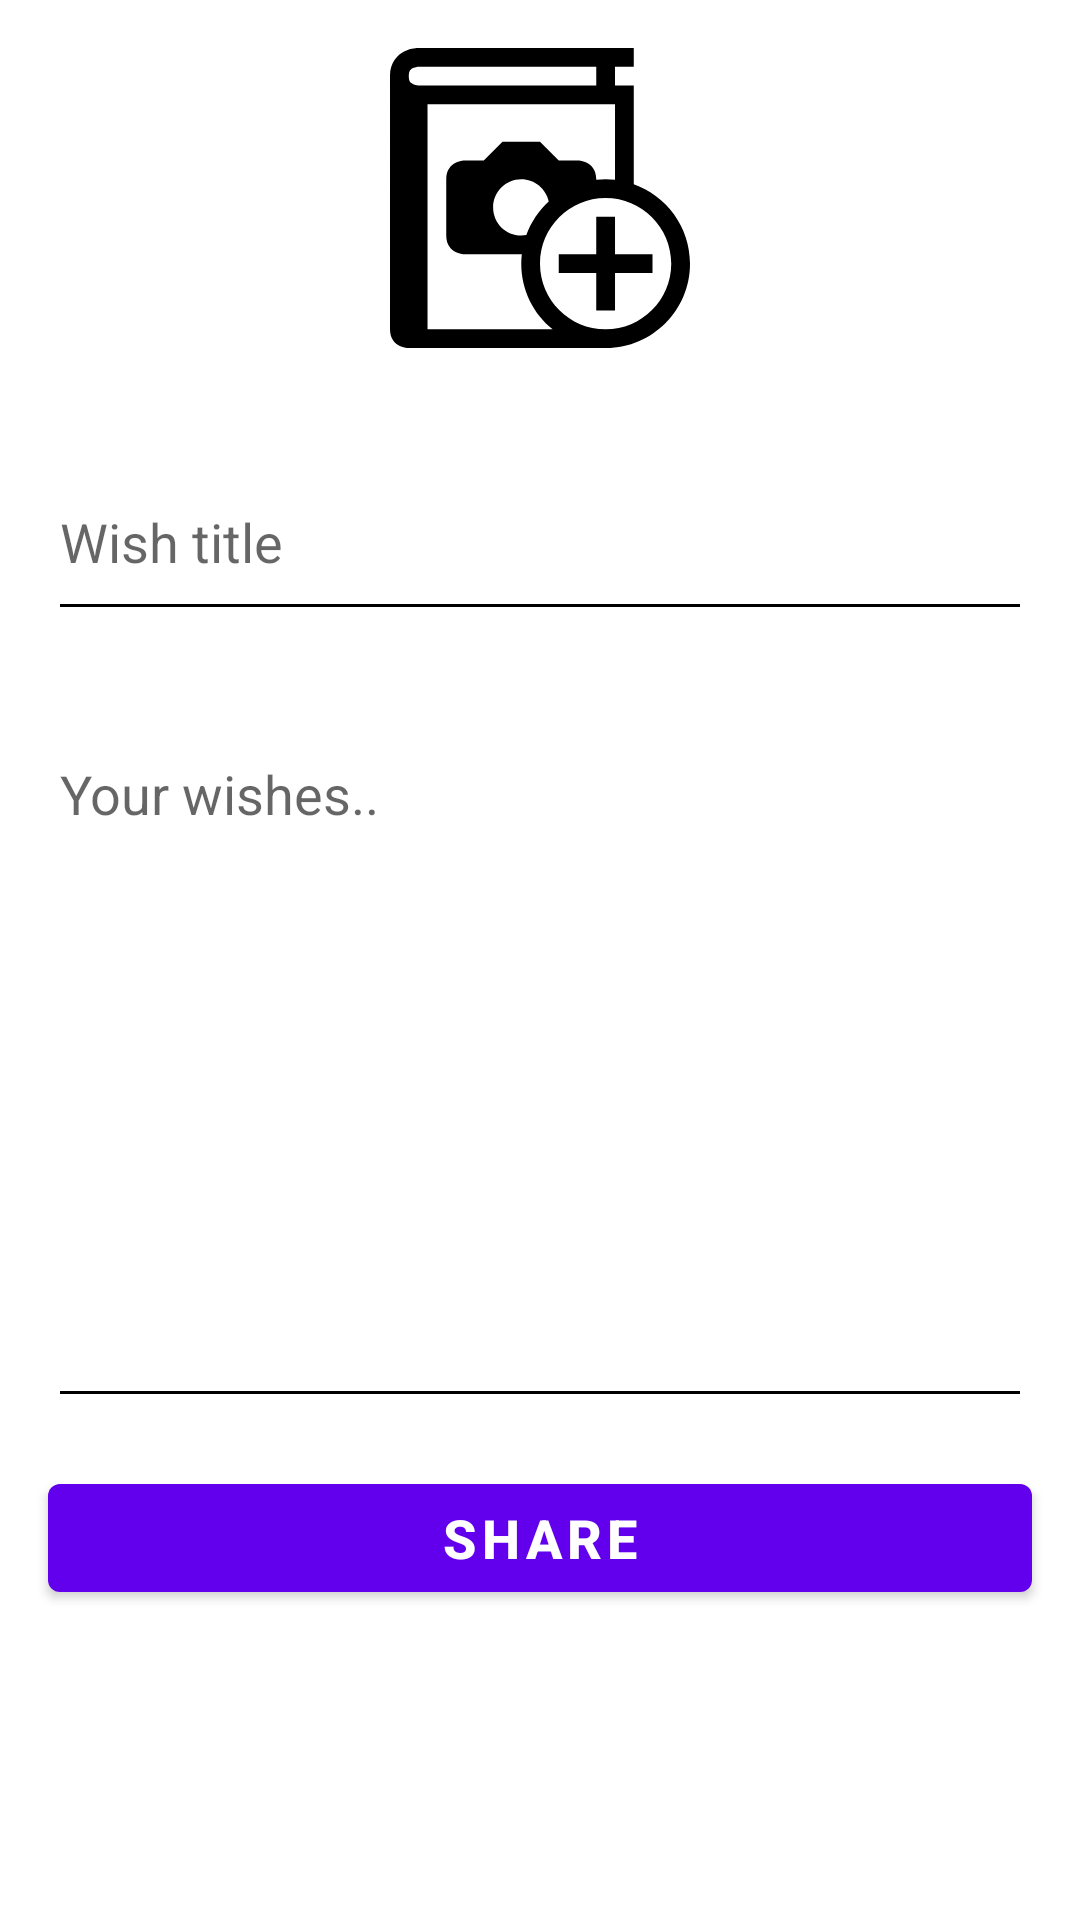

Screen size 1080w x 1920h. Icon name, then its box in pixels as (x1,y1,x2,y2):
add photo: (390,48,690,348)
